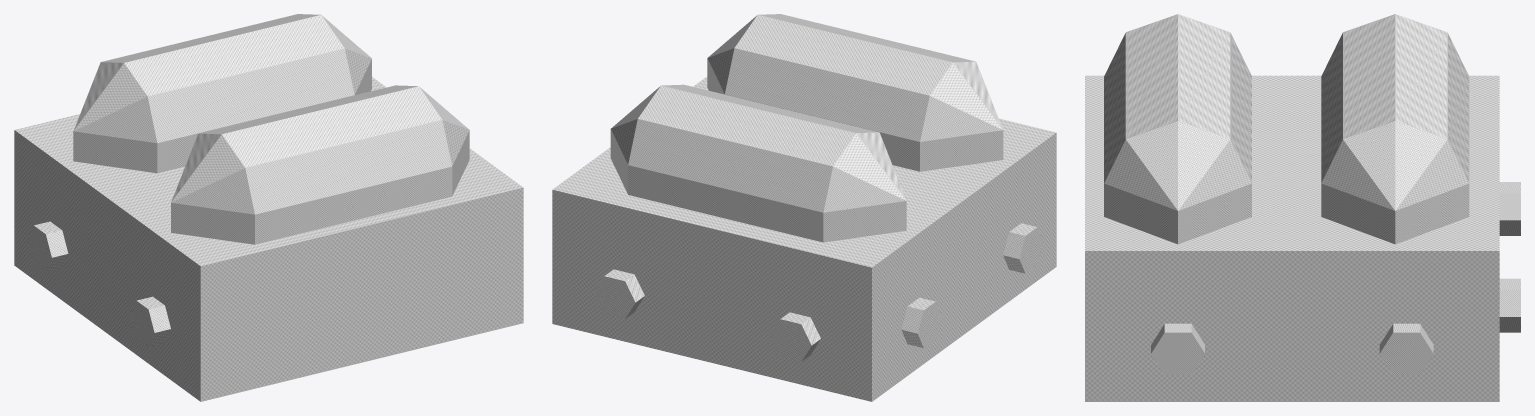
Rendered from Capacitor.dae.
3 views of the same model, side by side, from view 1: azimuth 30°, elevation 25°; view 2: azimuth 150°, elevation 25°; view 3: azimuth 270°, elevation 25° (orthographic). The views are drawn at different scales.
Visible parts, largest first — view 1: Capacitor; view 2: Capacitor; view 3: Capacitor.
Part boxes in pixels (box(x1,y1,x2,y2)): Capacitor: box(14, 14, 523, 401); Capacitor: box(552, 14, 1056, 401); Capacitor: box(1085, 14, 1520, 401).
Size of the model in its own units: 2 by 1.19 by 1.91.
